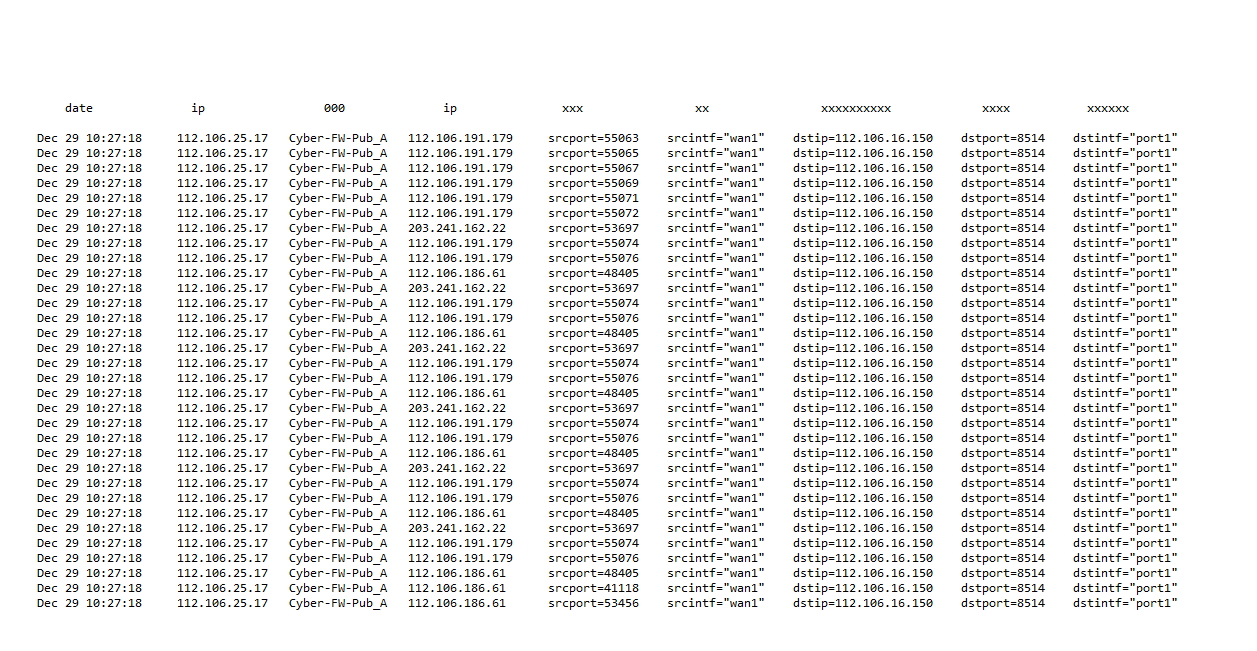table: (31, 97, 1187, 618)
